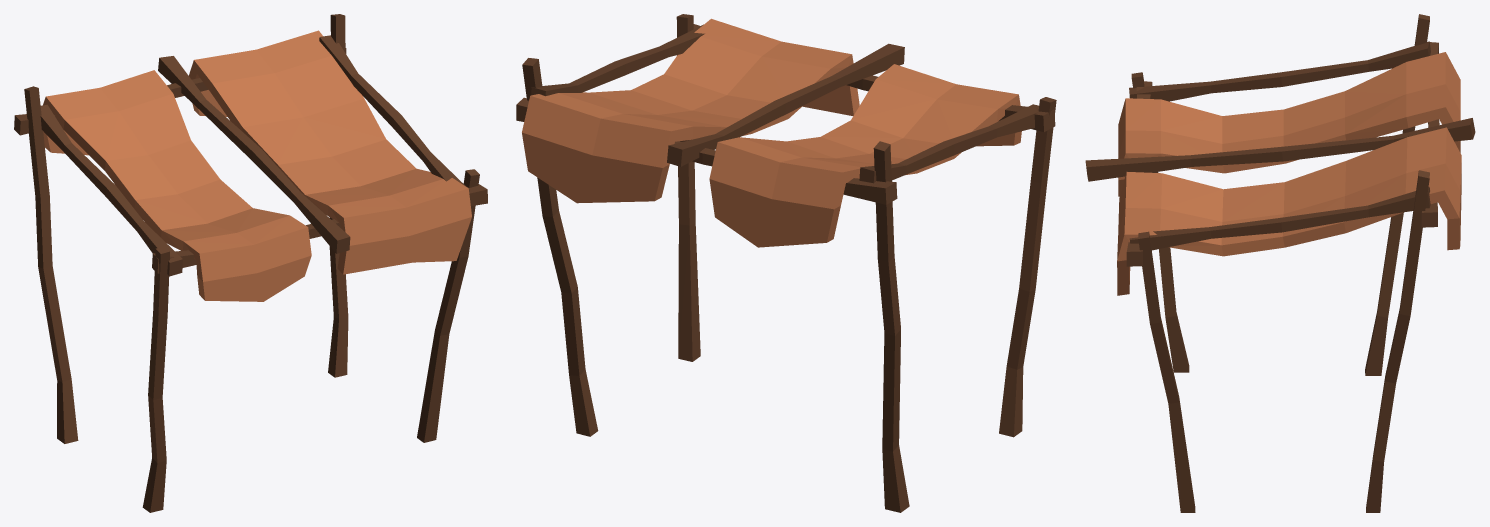
File: SM_Bld_Stall_Cover_04.fbx
3 renders of one model, left to right at view 1: azimuth 30°, elevation 25°; view 2: azimuth 150°, elevation 25°; view 3: azimuth 270°, elevation 25°, orthographic. The views are drawn at different scales.
Visible parts, largest first — view 1: SM_Bld_Stall_Cover_04; view 2: SM_Bld_Stall_Cover_04; view 3: SM_Bld_Stall_Cover_04.
Part boxes in pixels (x1,y1,x2,y2): SM_Bld_Stall_Cover_04: (14,14,487,512); SM_Bld_Stall_Cover_04: (516,14,1056,512); SM_Bld_Stall_Cover_04: (1085,14,1475,512).
Size of the model in its own units: 0.03 by 0.0297 by 0.0299.
Materials: 1 (1 with a texture image).
